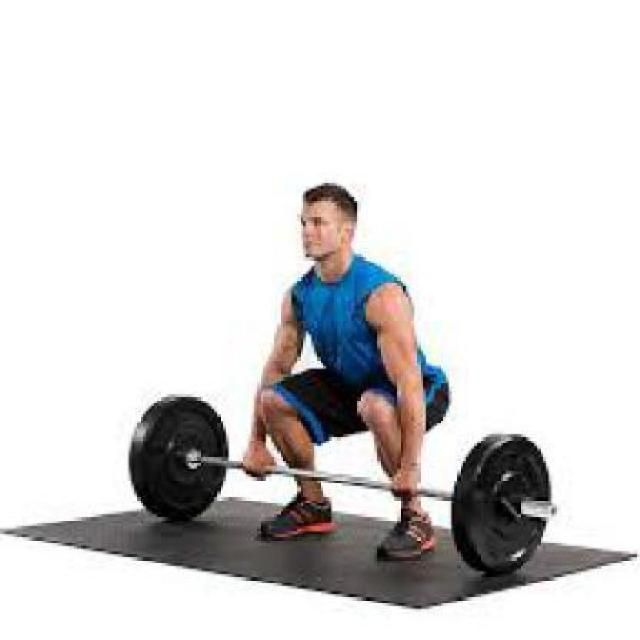barbell: (461, 429, 564, 581)
